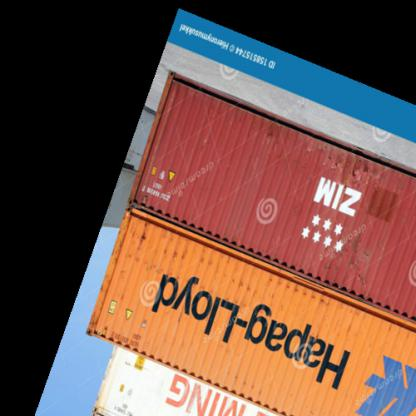Damage: (92, 209, 130, 337)
